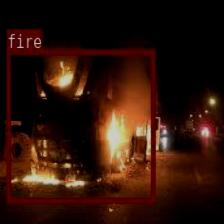fire: (6, 49, 154, 202)
